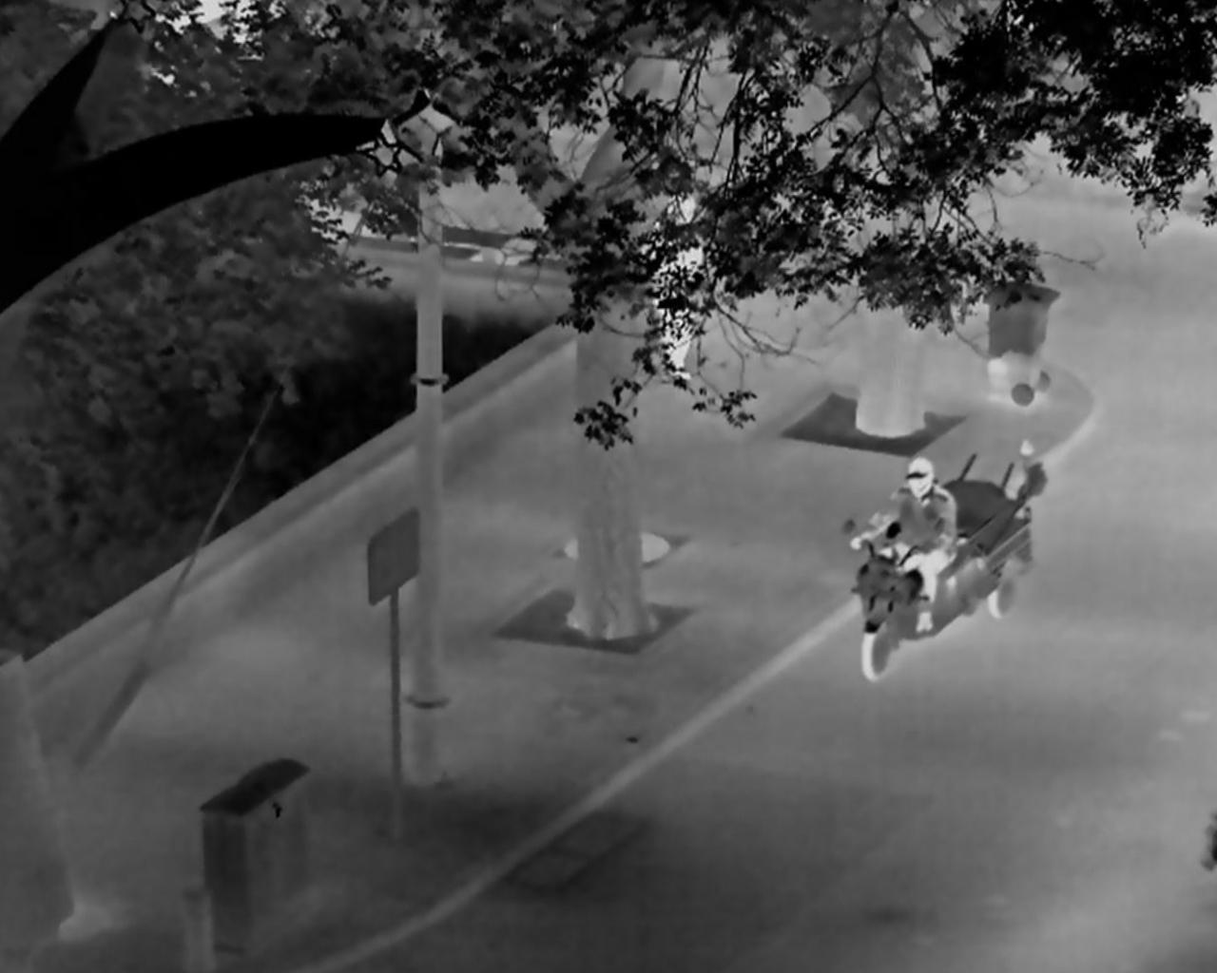person: (849, 455, 958, 635), (636, 189, 710, 384)
